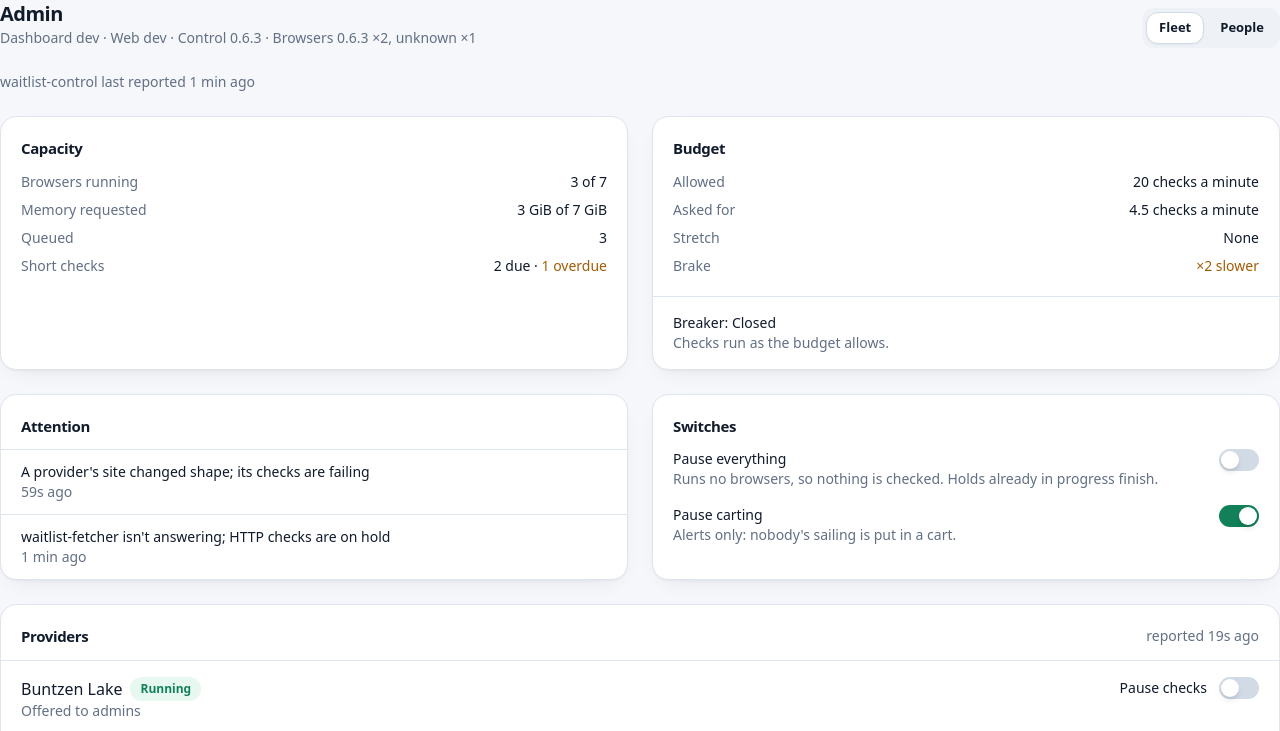
Test: providers checked over HTTP › shows each person's watches by provider, and labels the alert-only limit
The width and height of the screenshot is (1280, 731).
Click the button "People".
click(1242, 28)  # box 1208,12 -> 1276,44
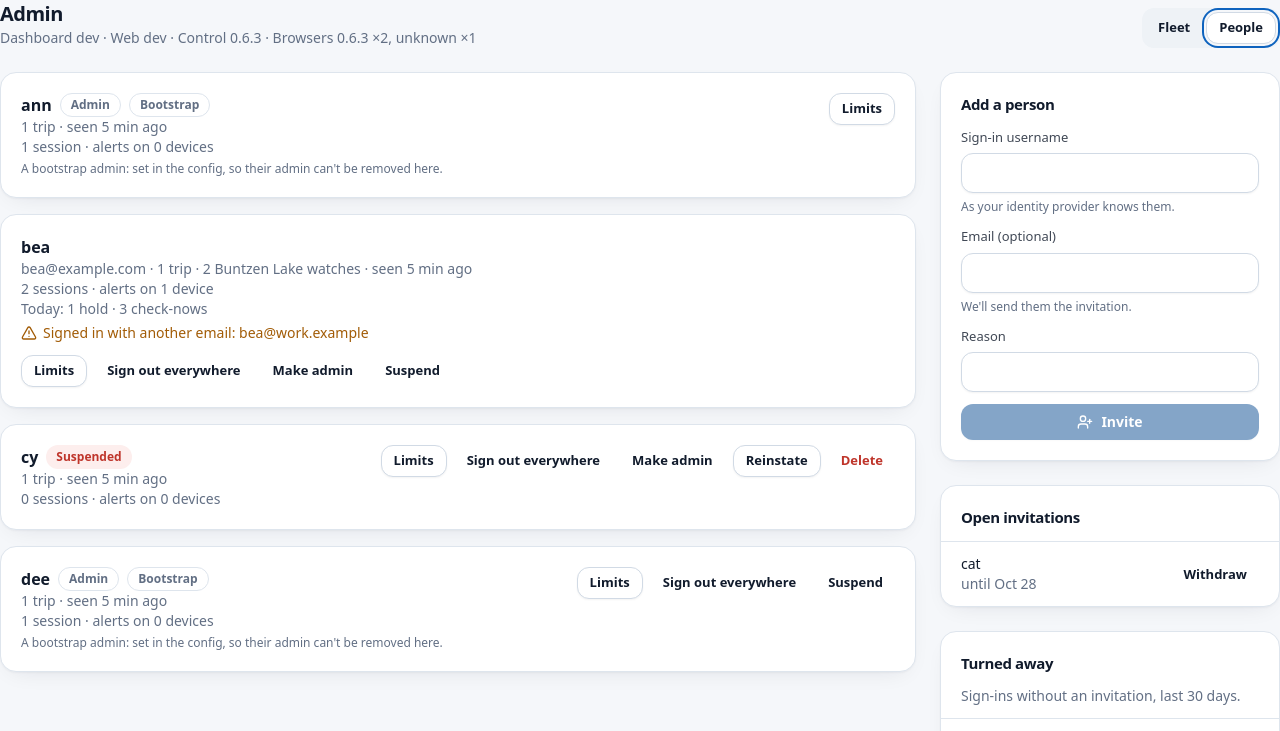
expect the text "1 trip · 2 Buntzen Lake watches" is shown: met, box 157,259 -> 361,278
Click the button with aria-label "Limits for bea".
click(54, 371)  # box 21,355 -> 87,387
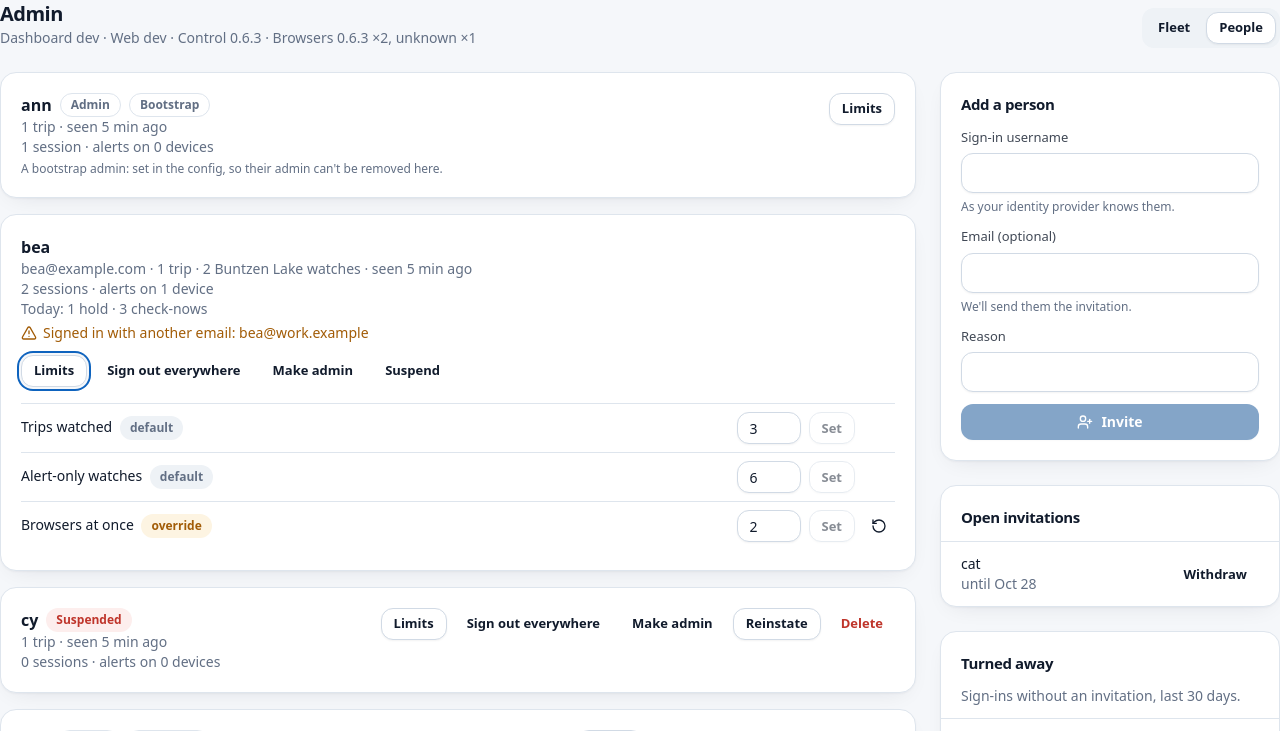
expect the field named "Alert-only watches" holds "6": met, box 736,461 -> 800,493
